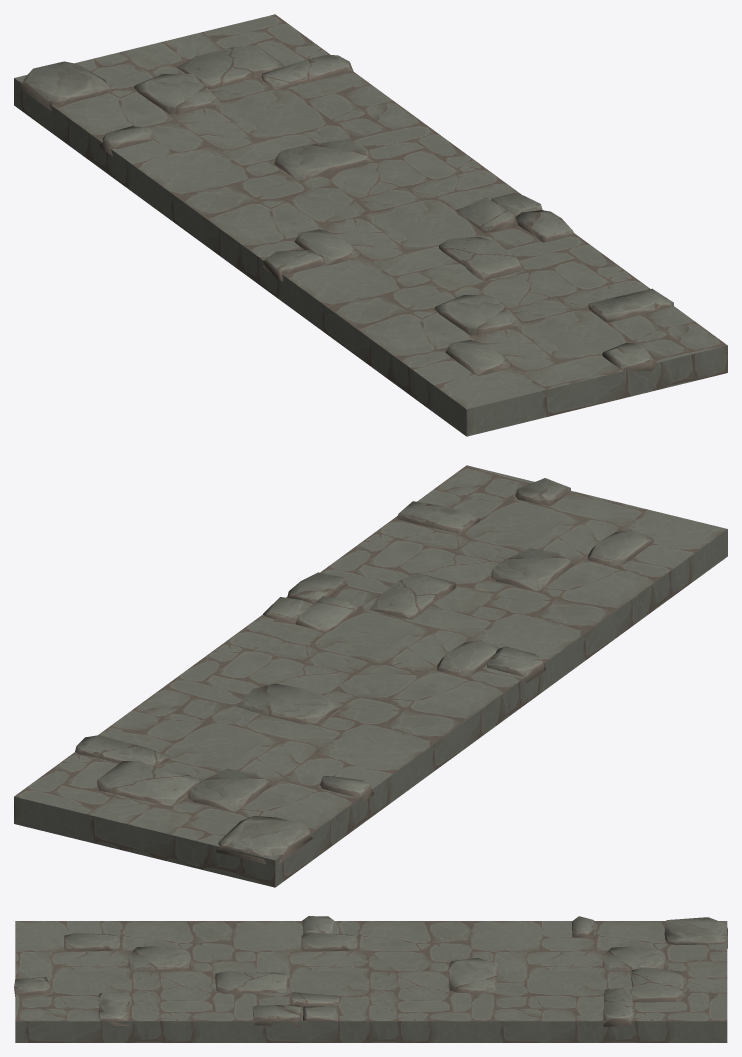
The model's file is SM_FW01_Ruins_Int_Floor_2x6_01.fbx.
3 views of the same model, one above another, from view 1: azimuth 30°, elevation 25°; view 2: azimuth 150°, elevation 25°; view 3: azimuth 270°, elevation 25° (orthographic). The views are drawn at different scales.
Visible parts, largest first — view 1: SM_FW01_Ruins_Int_Floor_2x6_01, SM_FW01_Ruins_Int_Floor_2x6_01_LOD0; view 2: SM_FW01_Ruins_Int_Floor_2x6_01, SM_FW01_Ruins_Int_Floor_2x6_01_LOD0; view 3: SM_FW01_Ruins_Int_Floor_2x6_01, SM_FW01_Ruins_Int_Floor_2x6_01_LOD0.
Part boxes in pixels (<box>): SM_FW01_Ruins_Int_Floor_2x6_01: <box>14,14,727,436</box>; SM_FW01_Ruins_Int_Floor_2x6_01_LOD0: <box>17,45,673,375</box>; SM_FW01_Ruins_Int_Floor_2x6_01: <box>14,465,727,887</box>; SM_FW01_Ruins_Int_Floor_2x6_01_LOD0: <box>75,478,653,864</box>; SM_FW01_Ruins_Int_Floor_2x6_01: <box>15,921,727,1042</box>; SM_FW01_Ruins_Int_Floor_2x6_01_LOD0: <box>14,916,727,1026</box>.
Size of what is drawn, in the model's own units: 2.03 by 0.2614 by 6.02.
